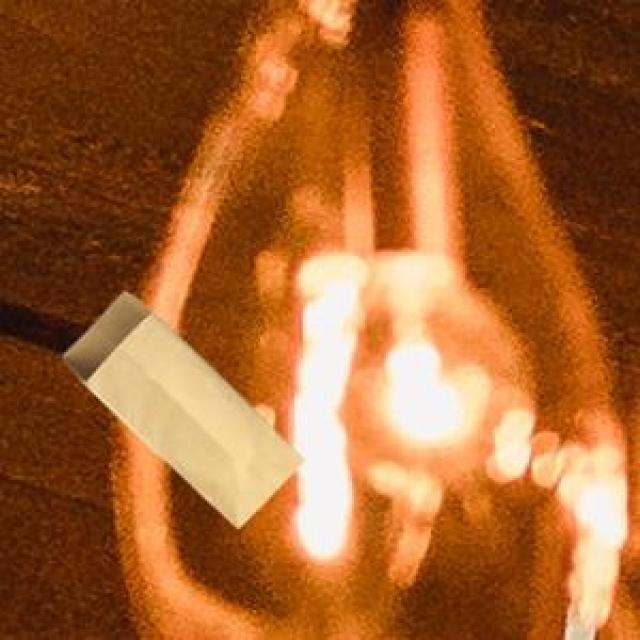Paper_Bag: (58, 289, 300, 526)
